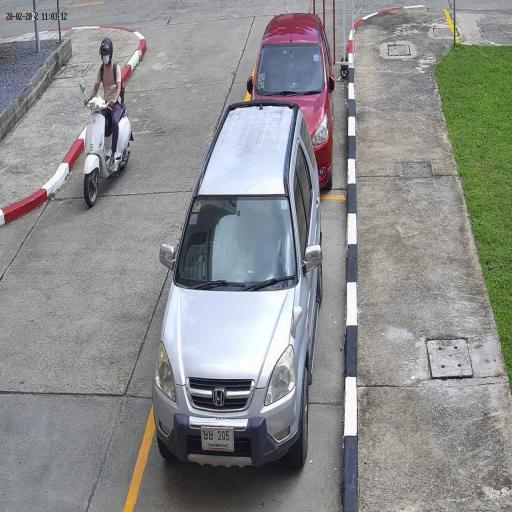car: (154, 100, 323, 470), (247, 13, 335, 190)
motorcycle: (84, 98, 134, 208)
